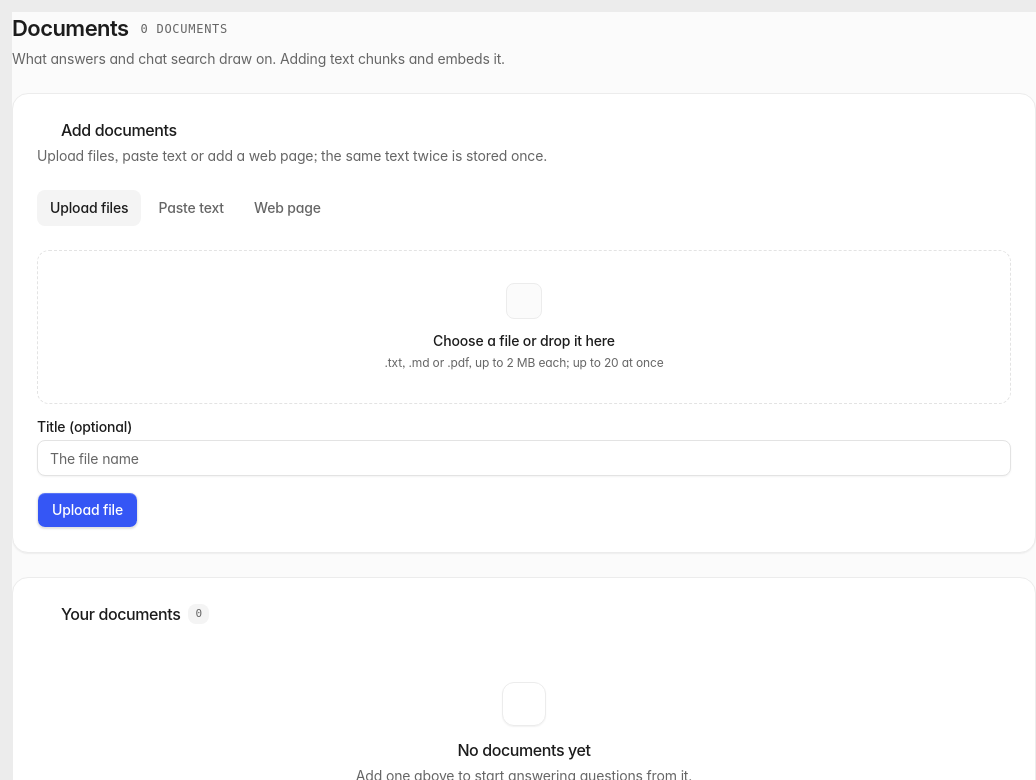
Test: DocumentsContainer (mocked API) › an ingest error is shown without losing the typed text
The width and height of the screenshot is (1036, 780).
Expected: the text "No documents yet" is shown, [457,738,591,762]
Click the tab "Paste text": {"x": 191, "y": 208} [145,190,237,226]
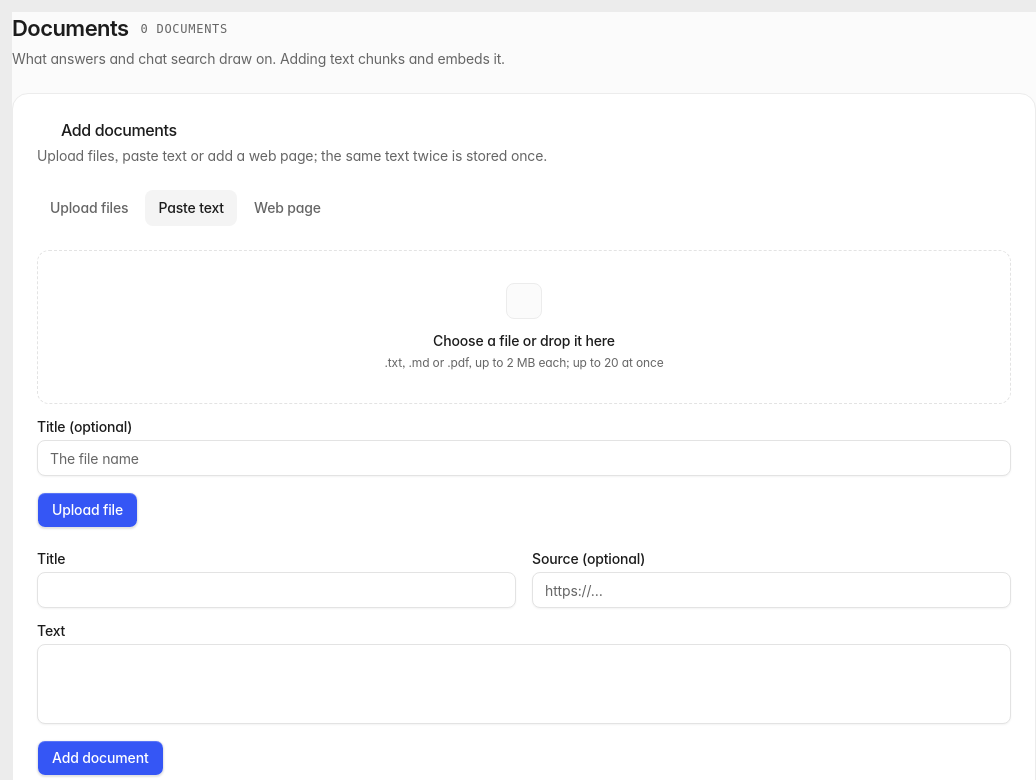
In the field labelled "Title": {"x": 276, "y": 590} [37,572,516,608], type "Huge"
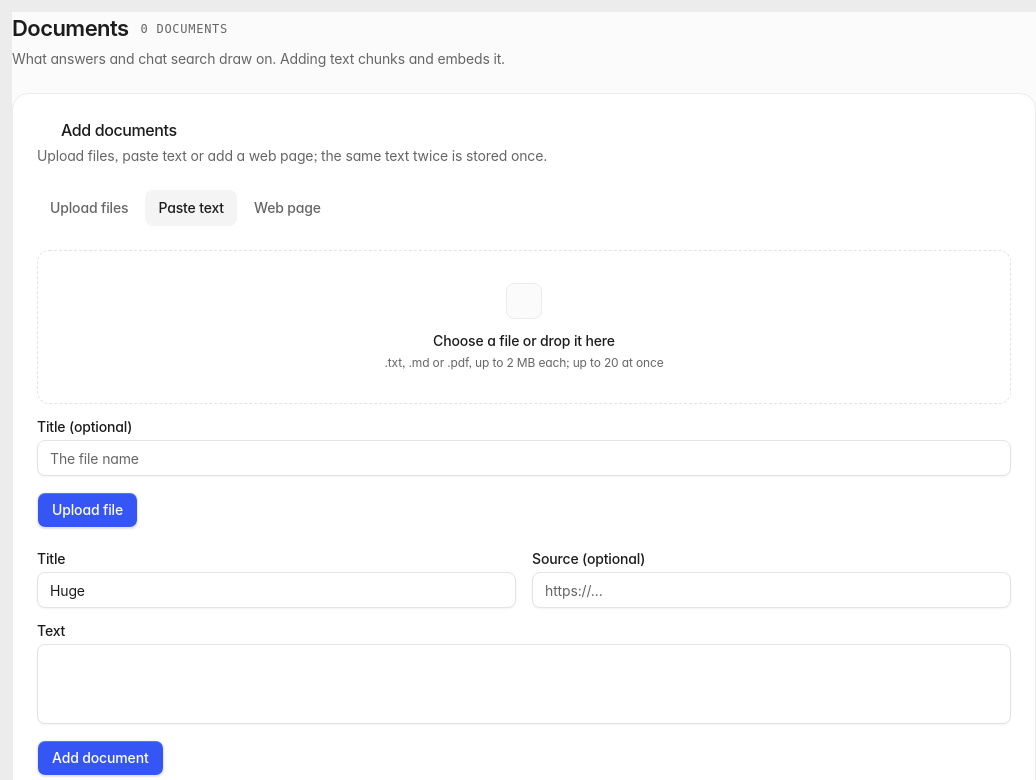
In the text box labelled "Text": {"x": 524, "y": 684} [37,644,1011,724], type "x"
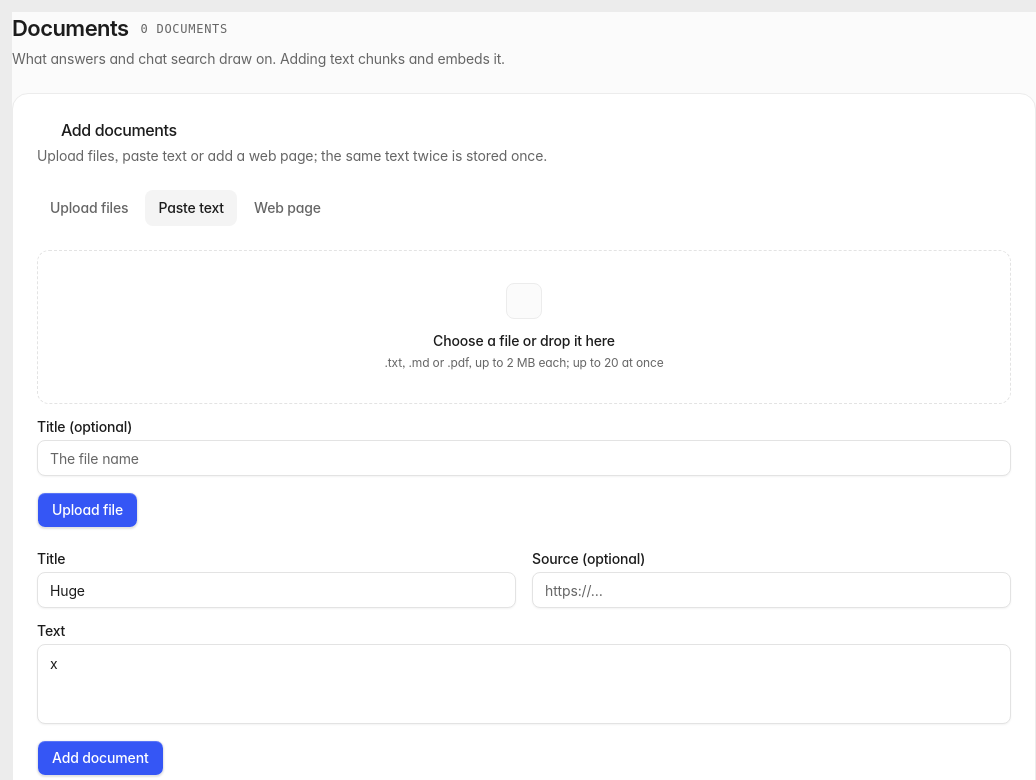
Click the button "Add document": {"x": 100, "y": 758} [37,740,164,776]
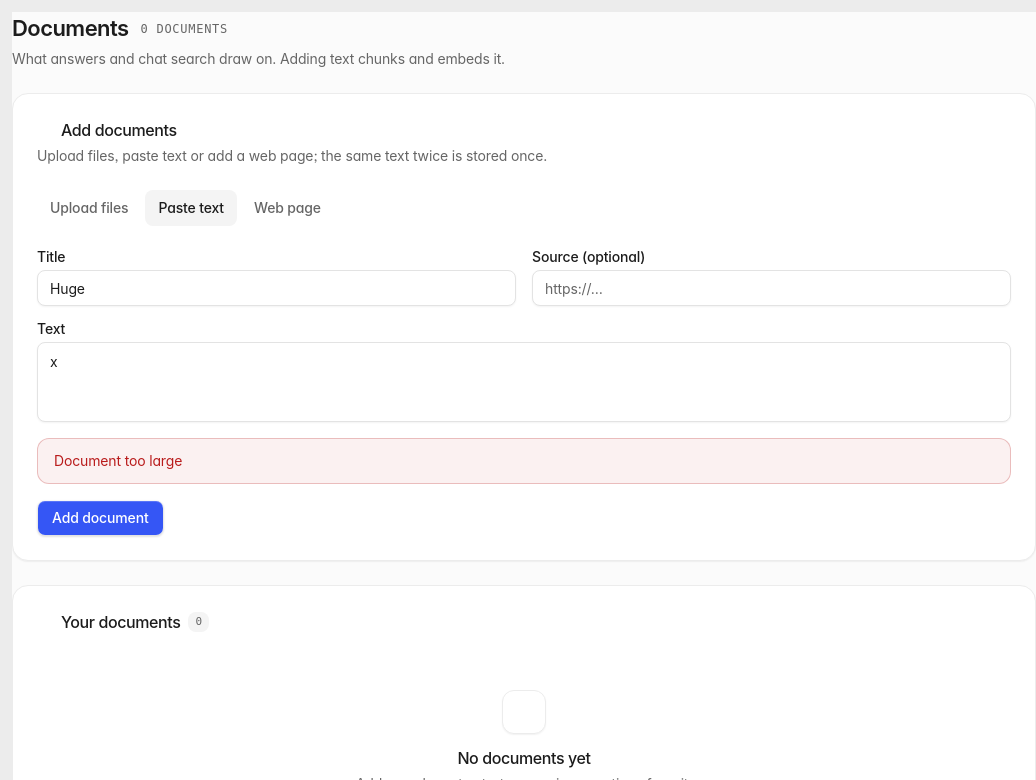
Expected: the text "Document too large" is shown, [54,452,182,469]
